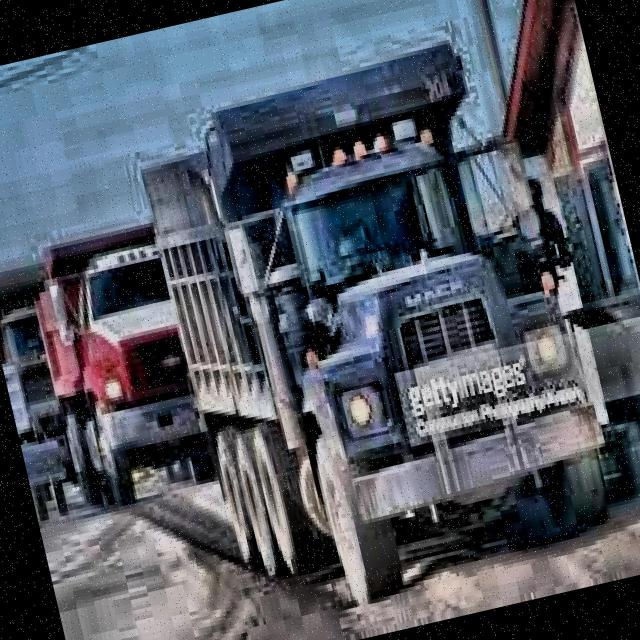dump_truck: (124, 26, 630, 631), (19, 217, 221, 517), (0, 250, 102, 522)
